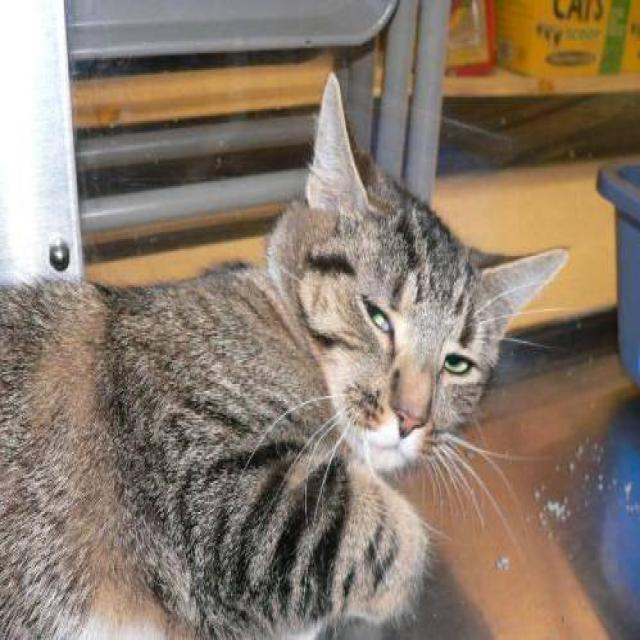cat: (0, 68, 569, 638)
